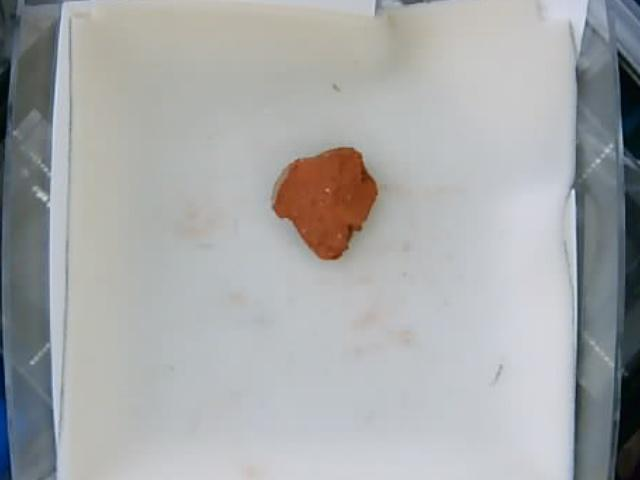Brisk: (273, 145, 378, 258)
